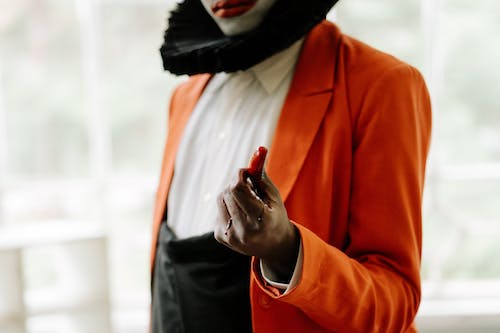blood: (222, 143, 275, 238)
